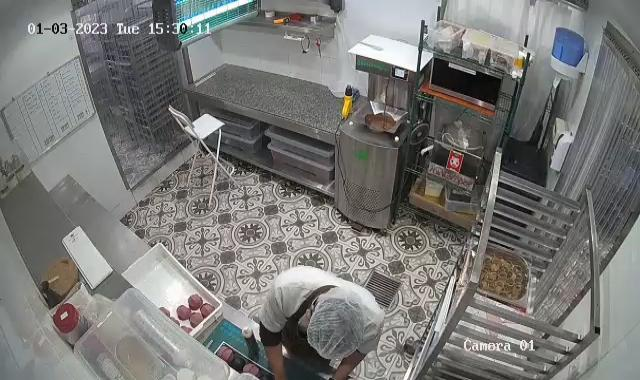hairnet: (304, 292, 364, 363)
